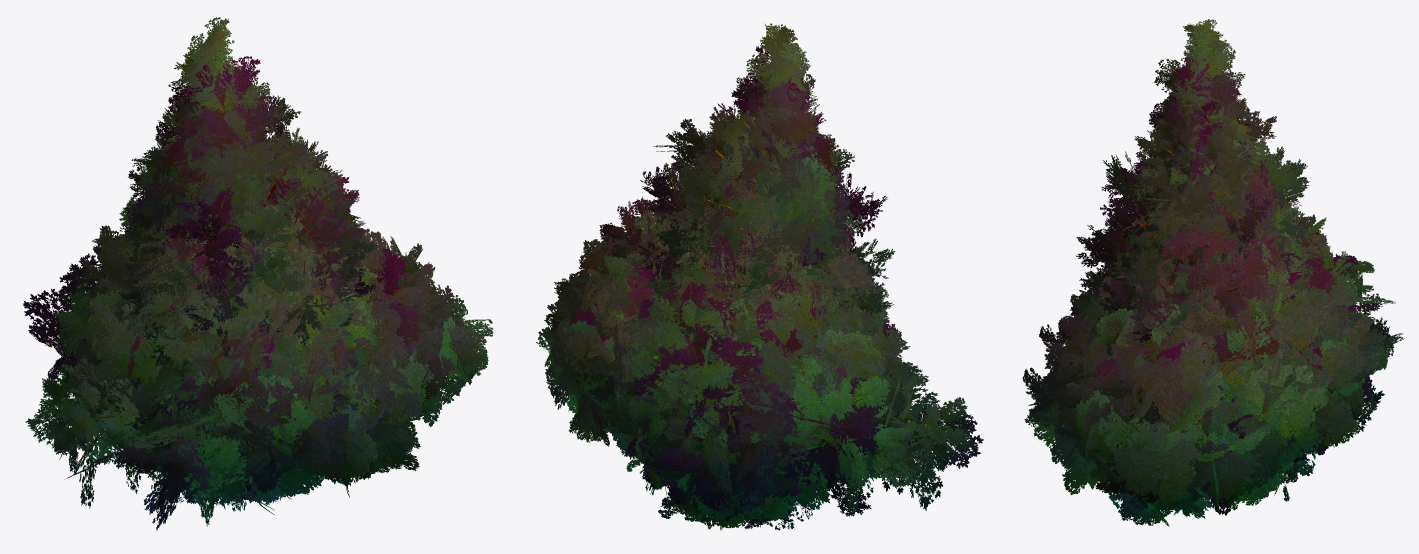
File: trees_c.glb
3 views of the same model, side by side, from view 1: azimuth 30°, elevation 25°; view 2: azimuth 150°, elevation 25°; view 3: azimuth 270°, elevation 25° (orthographic). The views are drawn at different scales.
Visible parts, largest first — view 1: tr_oak_b@0|leaf_1, tr_oak_b@2|leaf_1, tr_oak_b@1|leaf_1, tr_poplar@2|leaf_14, tr_pine_b@0|leaf_7, tr_maple_b@0|leaf_13, tr_maple_b@2|leaf_13, tr_maple@0|leaf_13, tr_maple_b@1|leaf_13, tr_poplar@1|leaf_14, tr_oak@0|leaf_1, tr_poplar@0|leaf_14 (+17 smaller); view 2: tr_maple@0|leaf_13, tr_oak@0|leaf_1, tr_maple@2|leaf_13, tr_maple@1|leaf_13, tr_oak_b@0|leaf_1, tr_pine_b@0|leaf_7, tr_poplar@2|leaf_14, tr_maple_b@2|leaf_13, tr_oak@1|leaf_1, tr_pine_b@1|leaf_7, tr_oak@2|leaf_1, tr_oak_b@1|leaf_1 (+24 smaller); view 3: tr_oak_b@2|leaf_1, tr_oak_b@0|leaf_1, tr_oak_b@1|leaf_1, tr_maple@0|leaf_13, tr_pine_b@0|leaf_7, tr_maple@2|leaf_13, tr_maple@1|leaf_13, tr_oak@0|leaf_1, tr_pine@0|leaf_7, tr_pine_b@1|leaf_7, tr_pine@1|leaf_7, tr_pine@2|leaf_7 (+19 smaller).
Boxes of the visible parts, box(x1,y1,x2,y2) form: tr_oak_b@0|leaf_1: box(136, 221, 492, 487); tr_oak_b@2|leaf_1: box(141, 219, 487, 484); tr_oak_b@1|leaf_1: box(137, 222, 492, 497); tr_poplar@2|leaf_14: box(130, 22, 269, 283); tr_pine_b@0|leaf_7: box(120, 95, 328, 350); tr_maple_b@0|leaf_13: box(39, 248, 335, 498); tr_maple_b@2|leaf_13: box(25, 303, 331, 530); tr_maple@0|leaf_13: box(28, 168, 374, 469); tr_maple_b@1|leaf_13: box(42, 291, 337, 504); tr_poplar@1|leaf_14: box(126, 17, 292, 495); tr_oak@0|leaf_1: box(57, 220, 381, 496); tr_poplar@0|leaf_14: box(126, 21, 293, 491); tr_maple@0|leaf_13: box(551, 169, 891, 501); tr_oak@0|leaf_1: box(536, 216, 911, 515); tr_maple@2|leaf_13: box(556, 160, 886, 515); tr_maple@1|leaf_13: box(556, 165, 893, 502); tr_oak_b@0|leaf_1: box(544, 233, 892, 523); tr_pine_b@0|leaf_7: box(640, 91, 894, 317); tr_poplar@2|leaf_14: box(714, 23, 850, 267); tr_maple_b@2|leaf_13: box(671, 335, 983, 521); tr_oak@1|leaf_1: box(541, 220, 911, 516); tr_pine_b@1|leaf_7: box(642, 94, 894, 318); tr_oak@2|leaf_1: box(544, 237, 901, 505); tr_oak_b@1|leaf_1: box(544, 227, 894, 520); tr_oak_b@2|leaf_1: box(1024, 266, 1364, 526); tr_oak_b@0|leaf_1: box(1022, 254, 1376, 518); tr_oak_b@1|leaf_1: box(1025, 258, 1375, 518); tr_maple@0|leaf_13: box(1078, 195, 1404, 457); tr_pine_b@0|leaf_7: box(1101, 88, 1309, 284); tr_maple@2|leaf_13: box(1078, 201, 1395, 437); tr_maple@1|leaf_13: box(1079, 197, 1403, 458); tr_oak@0|leaf_1: box(1091, 227, 1360, 463); tr_pine@0|leaf_7: box(1076, 156, 1302, 391); tr_pine_b@1|leaf_7: box(1105, 85, 1308, 265); tr_pine@1|leaf_7: box(1077, 156, 1304, 393); tr_pine@2|leaf_7: box(1079, 171, 1296, 342).
Size of the model in its own units: 15.59 by 17 by 12.92.
18 materials, 18 textured.
